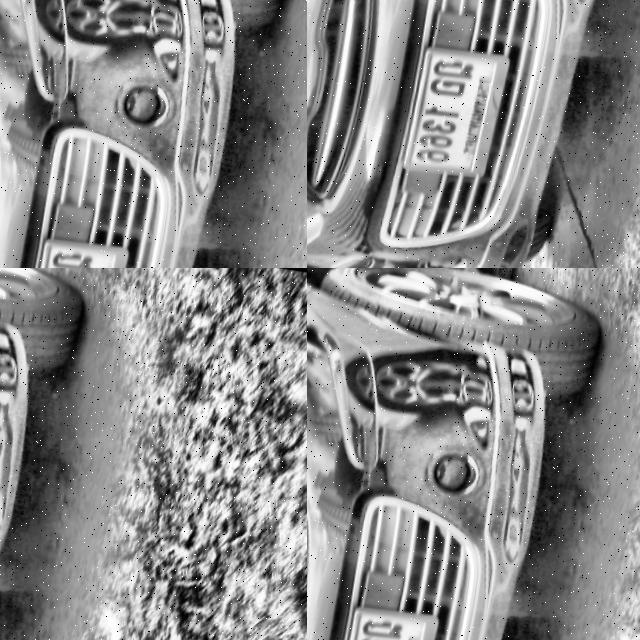license-plate: (332, 604, 432, 640)
